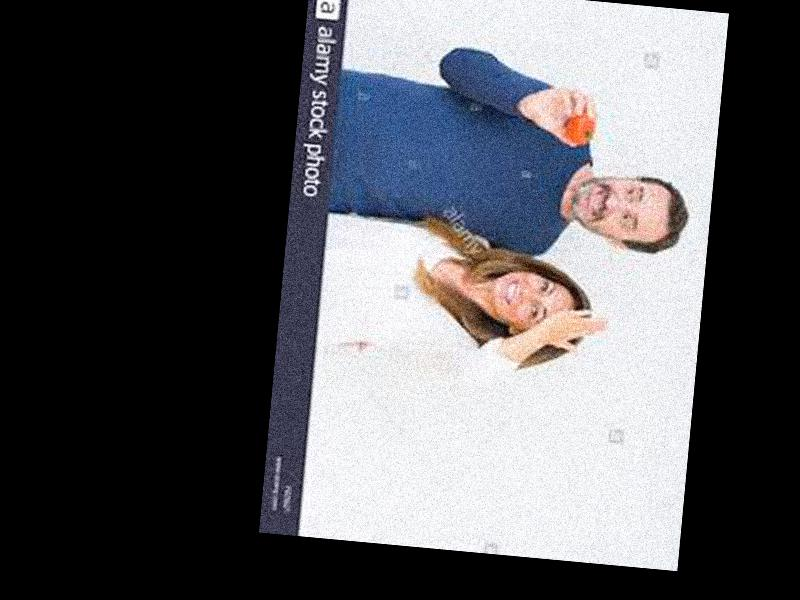Tomato: (565, 114, 598, 145)
